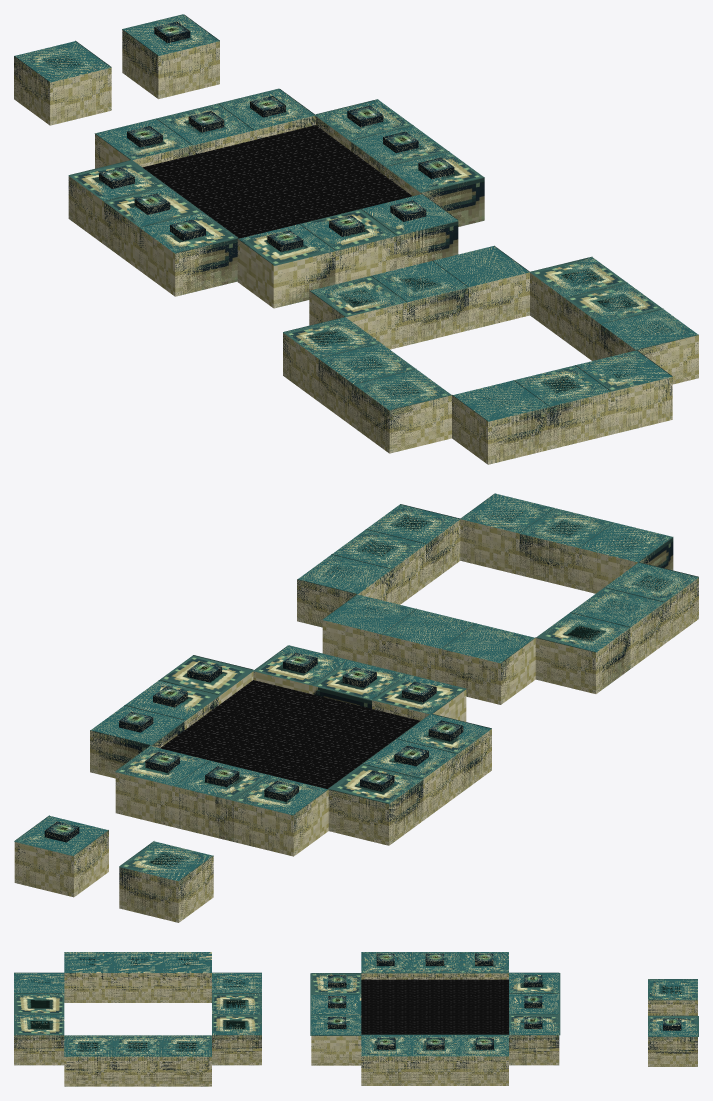
3 renders of one model, top to bottom at view 1: azimuth 30°, elevation 25°; view 2: azimuth 150°, elevation 25°; view 3: azimuth 270°, elevation 25°, orthographic. The views are drawn at different scales.
Visible parts, largest first — view 1: group_2, image_0 (×10), image_14 (×11), group_0 (×2), group_20 (×2), group_17 (×2), group_1 (×2), image_3 (×4), image_1 (×4), group_26 (×2), group_25 (×2), group_19 (×2) (+27 smaller); view 2: group_2, image_14 (×11), image_0 (×8), group_27 (×2), group_0 (×2), group_1 (×2), image_1 (×5), group_18 (×2), group_8 (×2), image_3 (×4), group_19 (×2), group_21 (×2) (+24 smaller); view 3: image_0 (×12), group_2, image_14 (×10), group_4 (×3), group_5 (×3), group_22 (×2), group_23 (×2), group_24 (×2), group_3 (×3), group_16 (×2), group_17 (×2), group_18 (×2) (+25 smaller).
Boxes of the visible parts, box(x1,y1,x2,y2) form: group_2: box(142, 125, 412, 238); image_0 (×10): box(15, 42, 665, 409); image_14 (×11): box(69, 88, 483, 265); group_0 (×2): box(14, 41, 111, 125); group_20 (×2): box(452, 380, 549, 464); group_17 (×2): box(354, 369, 451, 453); group_1 (×2): box(122, 15, 219, 99); image_3 (×4): box(318, 274, 529, 452); image_1 (×4): box(488, 299, 672, 464); group_26 (×2): box(433, 246, 529, 330); group_25 (×2): box(372, 261, 468, 345); group_19 (×2): box(514, 365, 610, 449); group_2: box(160, 680, 420, 788); image_14 (×11): box(115, 645, 490, 815); image_0 (×8): box(119, 495, 695, 879); group_27 (×2): box(441, 623, 535, 704); group_0 (×2): box(119, 841, 213, 922); group_1 (×2): box(14, 816, 108, 897); image_1 (×5): box(119, 520, 500, 922); group_18 (×2): box(535, 613, 630, 693); group_8 (×2): box(234, 775, 328, 856); image_3 (×4): box(519, 534, 698, 691); group_19 (×2): box(519, 508, 612, 589); group_21 (×2): box(460, 493, 553, 574); image_0 (×12): box(14, 952, 697, 1056); group_2: box(361, 979, 508, 1034); image_14 (×10): box(310, 952, 560, 1056); group_4 (×3): box(410, 1035, 459, 1085); group_5 (×3): box(361, 1035, 410, 1085); group_22 (×2): box(162, 1035, 211, 1086); group_23 (×2): box(113, 1035, 162, 1086); group_24 (×2): box(64, 1035, 113, 1086); group_3 (×3): box(460, 1035, 508, 1085); group_16 (×2): box(113, 952, 162, 1002); group_17 (×2): box(64, 952, 113, 1002); group_18 (×2): box(162, 952, 211, 1002).
Bounding box in the file's own units: 183 × 506 × 28.82.
Materials: 10 (9 with a texture image).
